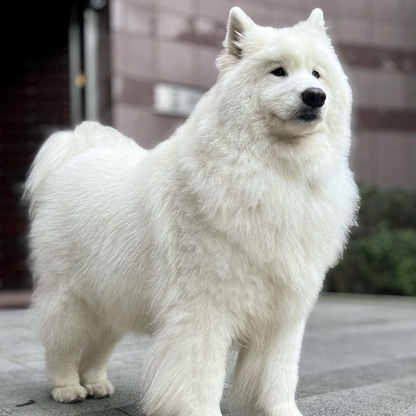samoyed: (17, 2, 367, 416)
